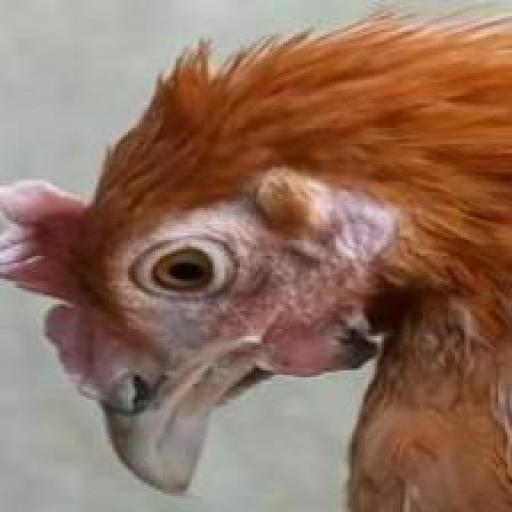healthy: (36, 152, 336, 439)
